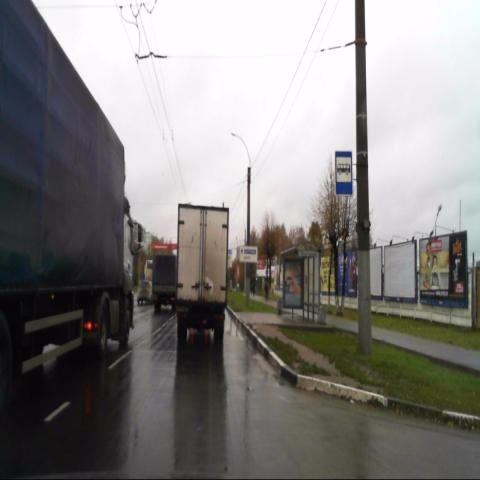5_16: (335, 151, 352, 196)
